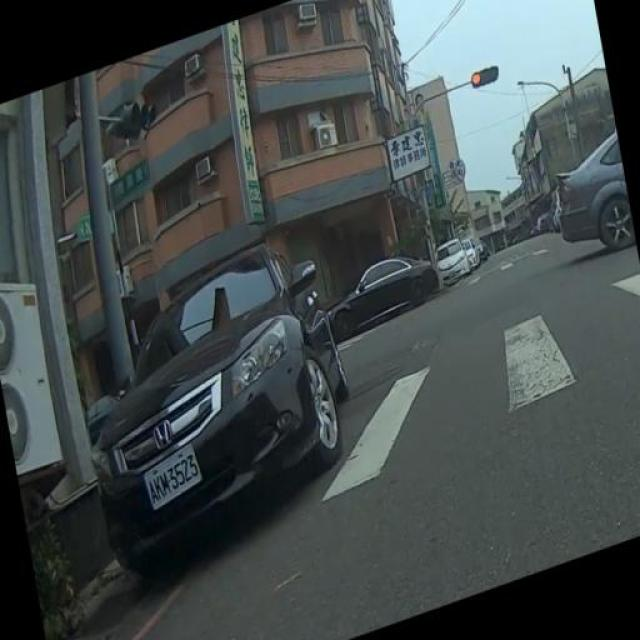illegalparking: (81, 222, 350, 585)
